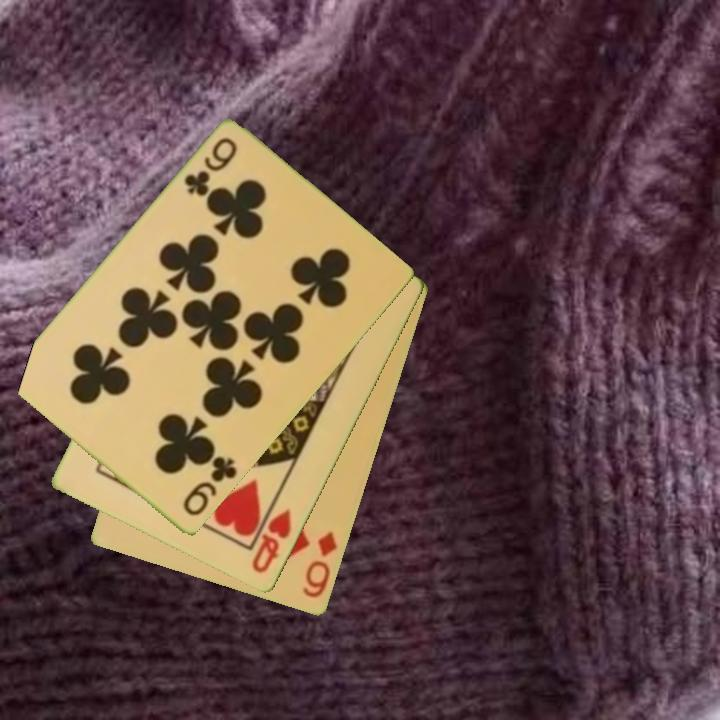6d: (299, 528, 341, 602)
9c: (179, 453, 240, 520), (180, 134, 241, 200)
Qh: (248, 505, 295, 577)
